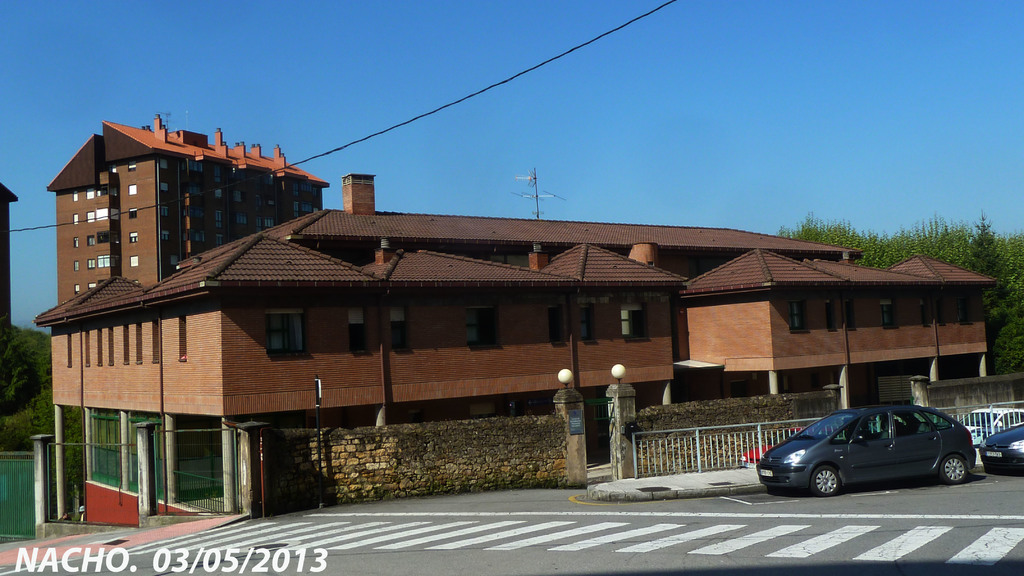Car: (755, 403, 977, 497), (738, 426, 837, 468), (978, 428, 1023, 467), (959, 409, 1023, 433), (972, 426, 1015, 448)
